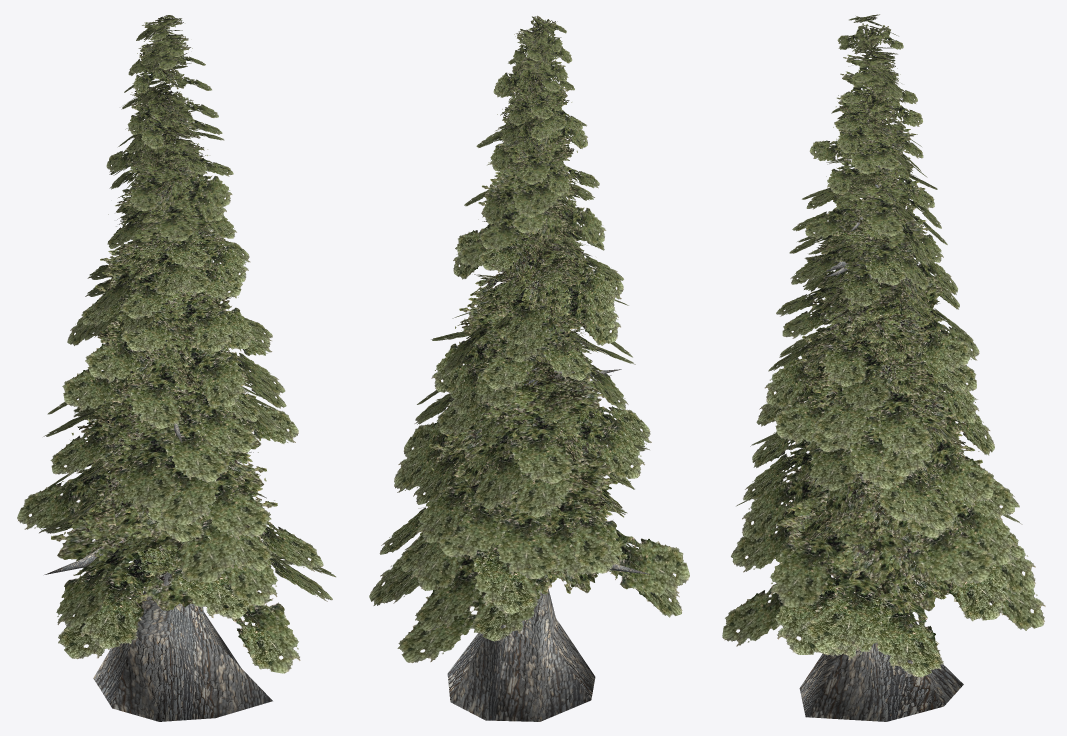
File: PineTreeLeavesBig.fbx
The picture shows the model from 3 angles, left to right: view 1: azimuth 30°, elevation 25°; view 2: azimuth 150°, elevation 25°; view 3: azimuth 270°, elevation 25°; orthographic projection.
Visible parts, largest first — view 1: Leaves, Trunk; view 2: Leaves, Trunk; view 3: Leaves, Trunk.
Boxes of the visible parts, x1,y1,x2,y2 form: Leaves: (17,15,335,673); Trunk: (93,135,272,721); Leaves: (369,15,689,663); Trunk: (447,368,595,721); Leaves: (722,14,1045,677); Trunk: (799,165,963,721).
Size of the model in its own units: 575 by 1299 by 587.
